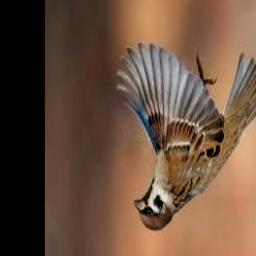Sparrow: (117, 43, 256, 231)
